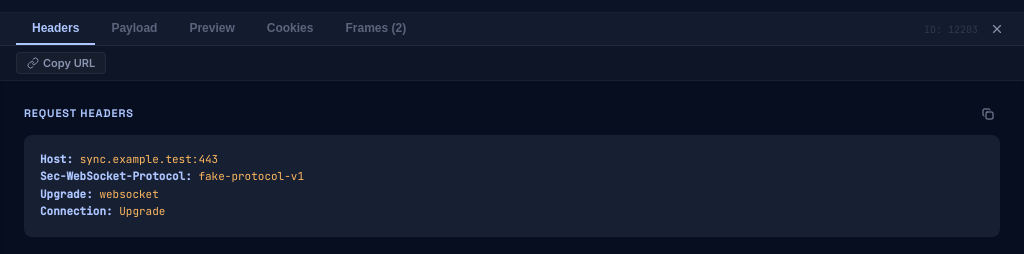
TrafficDetailPanel — WebSocket protocol decoding › falls back to raw frames when no decoder matches the connection
The image size is (1024, 254).
Click the button "Frames (2)" at (376, 29), box [330, 13, 422, 45]
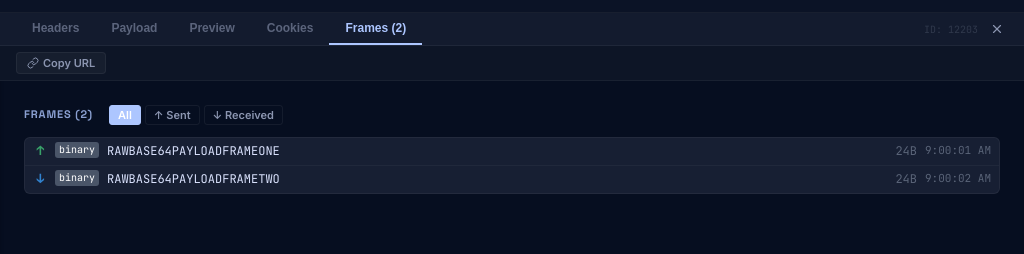
Now the text "RAWBASE64PAYLOADFRAMEONE" is shown, box [107, 143, 280, 159]
